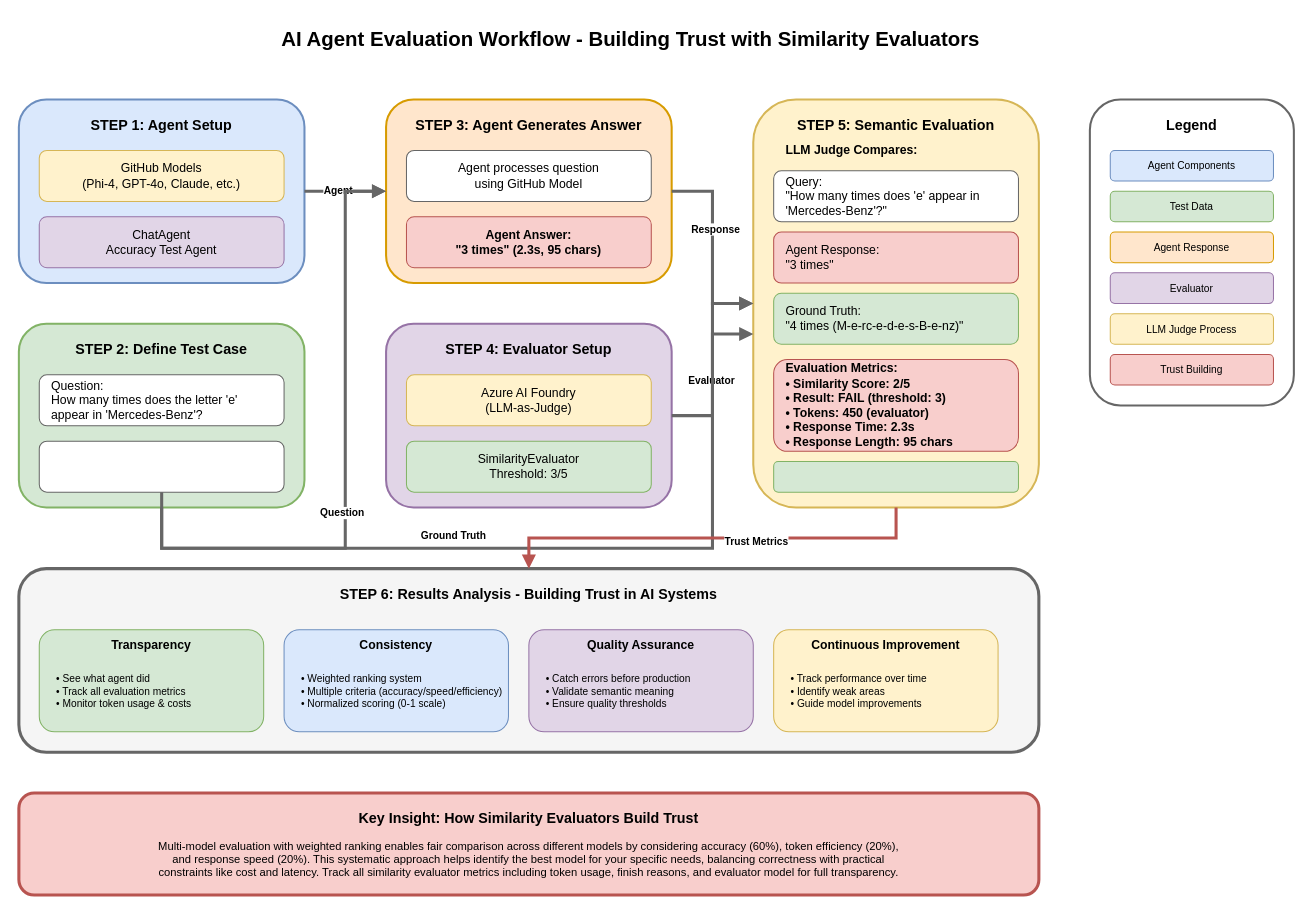
Some shapes in this 1313 by 914 pixel diagram are drawn without their labels. The box of each missing label's shape, as (x1, y1, x2, y2) in pixels:
Ground Truth: 4 times (M-e-rc-e-d-e-s-B-e-nz): (38, 440, 284, 492)
Weighted Ranking: 60% Accuracy + 20% Efficiency + 20% Speed: (773, 461, 1018, 492)
